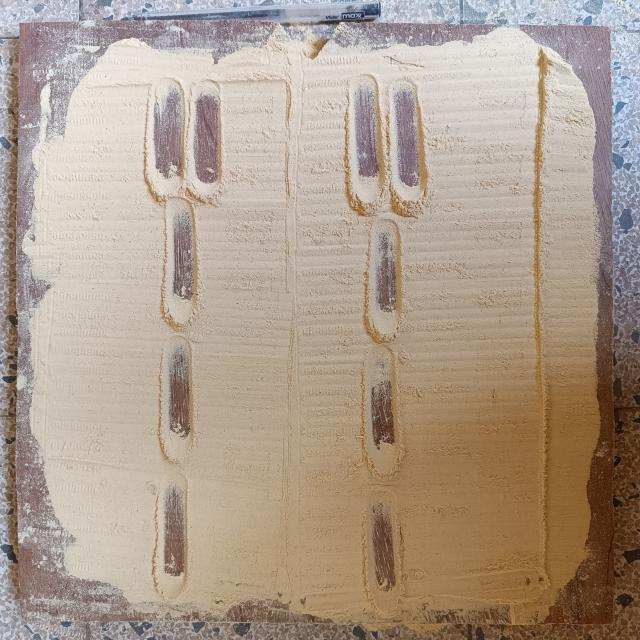double: (334, 72, 436, 216), (138, 67, 232, 205)
single: (358, 344, 410, 482), (156, 194, 203, 335), (362, 213, 410, 347), (362, 490, 408, 624), (152, 466, 195, 606), (156, 332, 200, 468)
